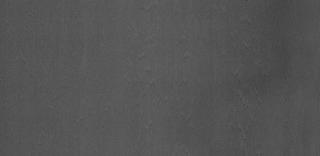silk spot: (132, 43, 168, 111)
